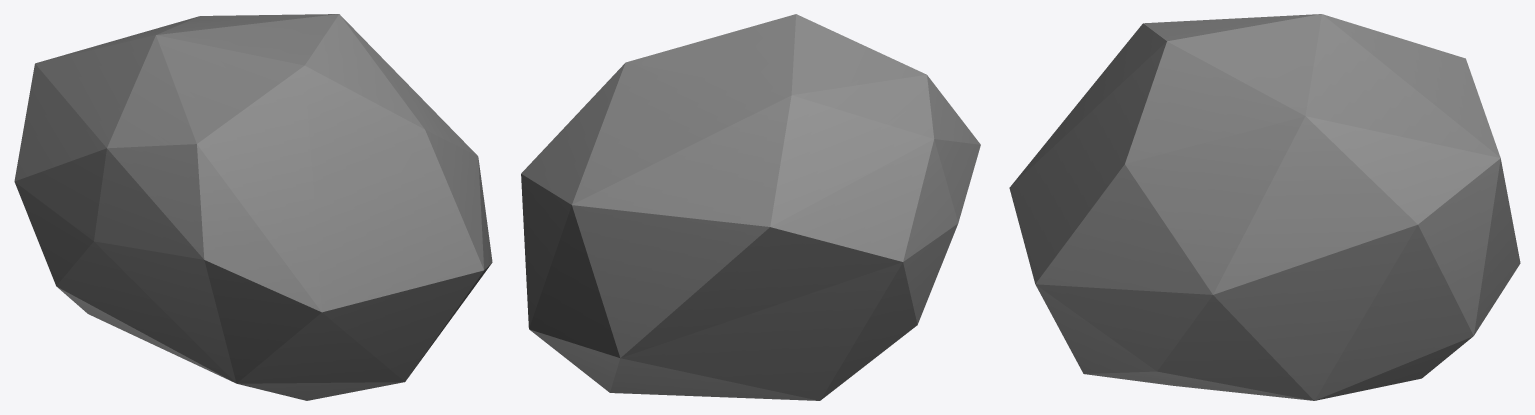
Rendered from Rock_Small_4.fbx.
3 views of the same model, side by side, from view 1: azimuth 30°, elevation 25°; view 2: azimuth 150°, elevation 25°; view 3: azimuth 270°, elevation 25° (orthographic).
Parts seen in each view (by area): view 1: Rock_Small_4; view 2: Rock_Small_4; view 3: Rock_Small_4.
Boxes of the visible parts, box(x1,y1,x2,y2) form: Rock_Small_4: box(14, 14, 492, 400); Rock_Small_4: box(521, 14, 980, 400); Rock_Small_4: box(1009, 14, 1520, 400).
Size of the model in its own units: 118 by 96.26 by 130.
